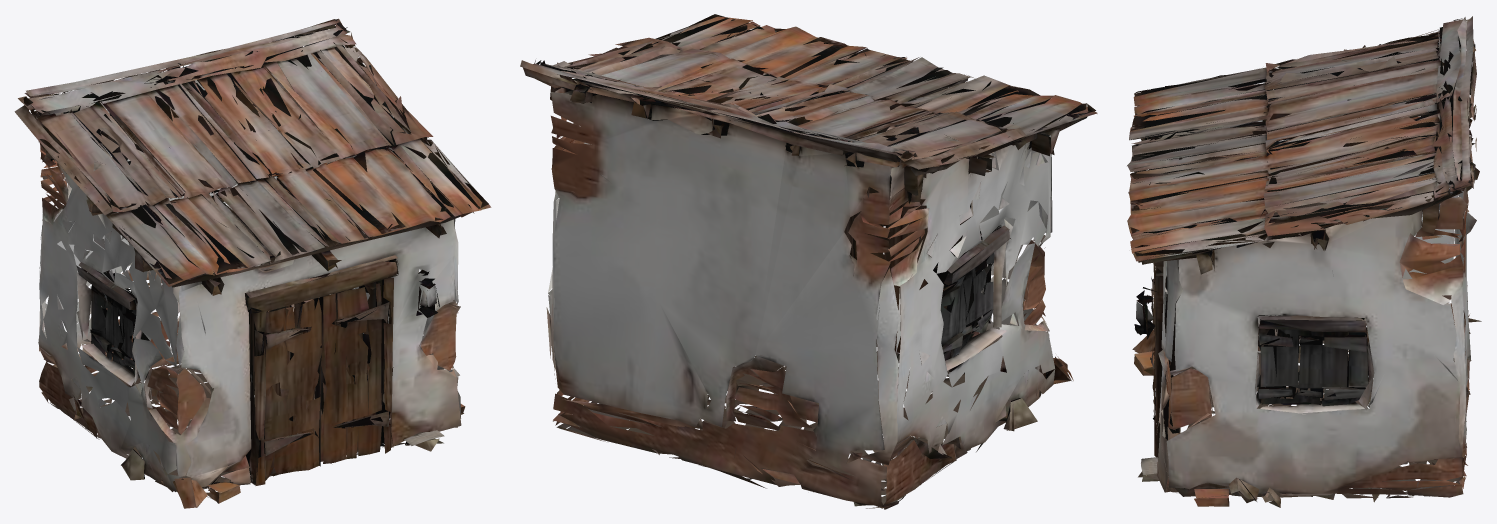
The model's file is galpon.glb.
3 renders of one model, left to right at view 1: azimuth 30°, elevation 25°; view 2: azimuth 150°, elevation 25°; view 3: azimuth 270°, elevation 25°, orthographic. The views are drawn at different scales.
Parts seen in each view (by area): view 1: galpon; view 2: galpon; view 3: galpon.
Part boxes in pixels (x1,y1,x2,y2): galpon: [14, 18, 491, 508]; galpon: [520, 14, 1097, 509]; galpon: [1127, 16, 1481, 507].
Bounding box in the file's own units: 1.12 × 1.02 × 0.9691.
Materials: 1 (1 with a texture image).
